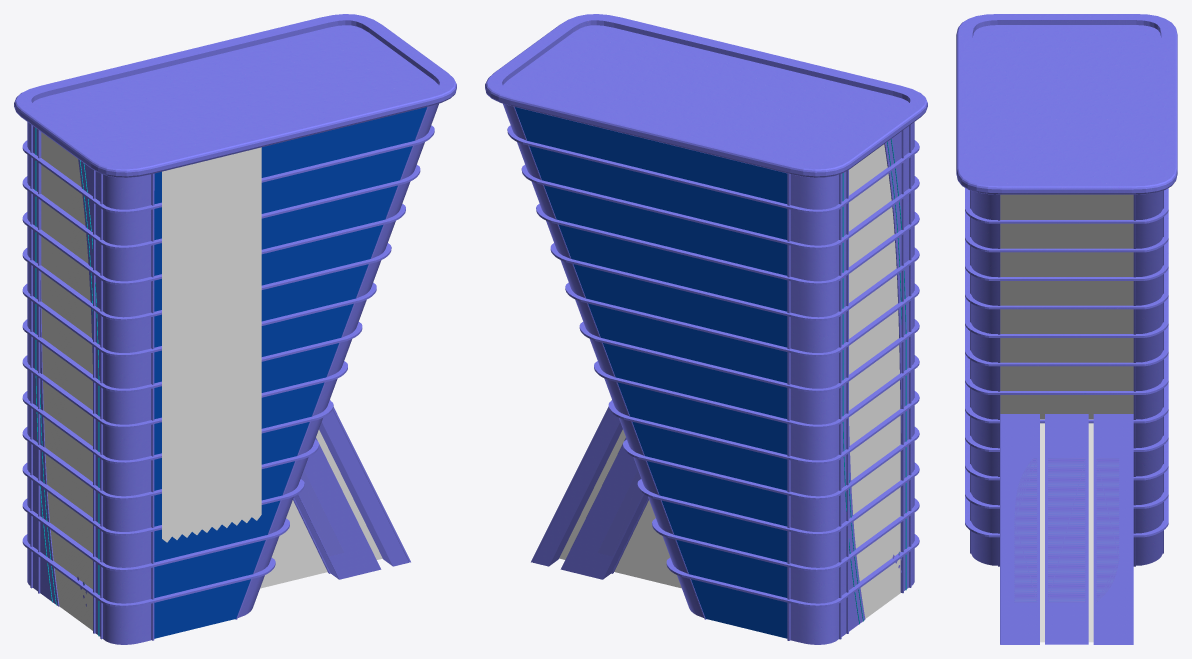
Rendered from Building_Kyowon_001_2st_L0.fbx.
3 views of the same model, side by side, from view 1: azimuth 30°, elevation 25°; view 2: azimuth 150°, elevation 25°; view 3: azimuth 270°, elevation 25° (orthographic).
Parts seen in each view (by area): view 1: Building_Kyowon_001_2st_L0; view 2: Building_Kyowon_001_2st_L0; view 3: Building_Kyowon_001_2st_L0.
Part boxes in pixels (box(x1,y1,x2,y2)): Building_Kyowon_001_2st_L0: box(14, 14, 456, 644); Building_Kyowon_001_2st_L0: box(485, 14, 927, 644); Building_Kyowon_001_2st_L0: box(956, 14, 1177, 644).
Bounding box in the file's own units: 50.91 × 27.35 × 65.34.
